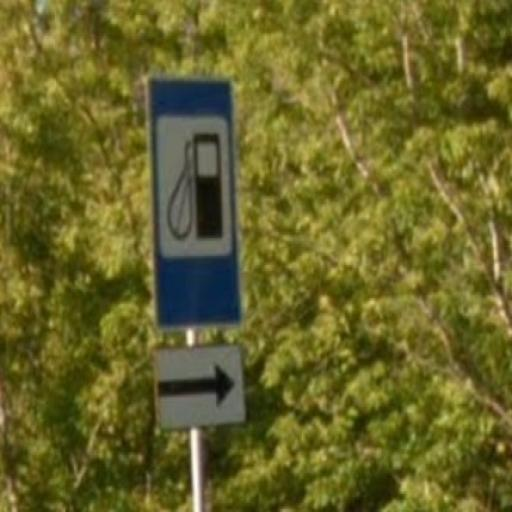traffic_sign: (147, 76, 246, 332)
